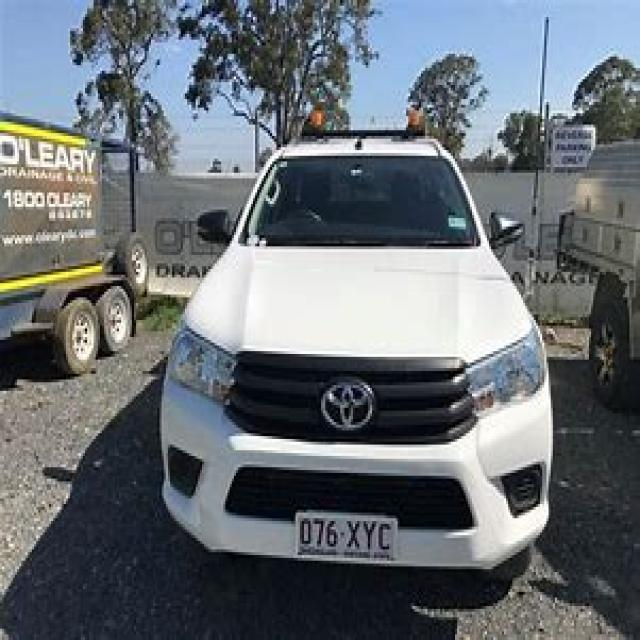light_vehicle: (134, 104, 555, 580)
